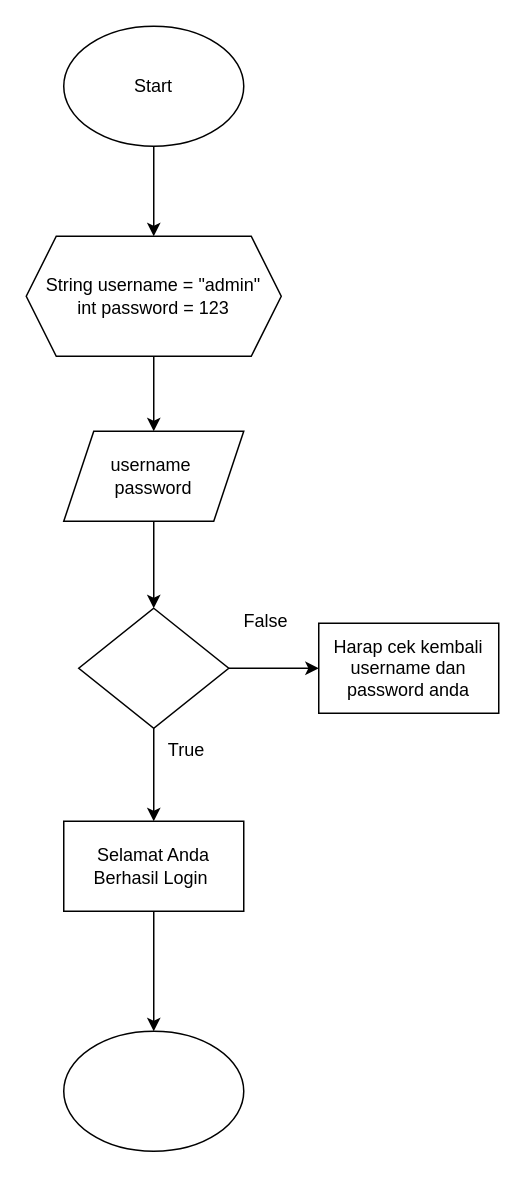
Some shapes in this 525 by 1178 pixel diagram are drawn without their labels. The shapes that lost their labels are listed below. From the top down, each one's centre as x and y in pixels, then its label:
pixel 153 667: ussername valid
pixel 153 1090: end
